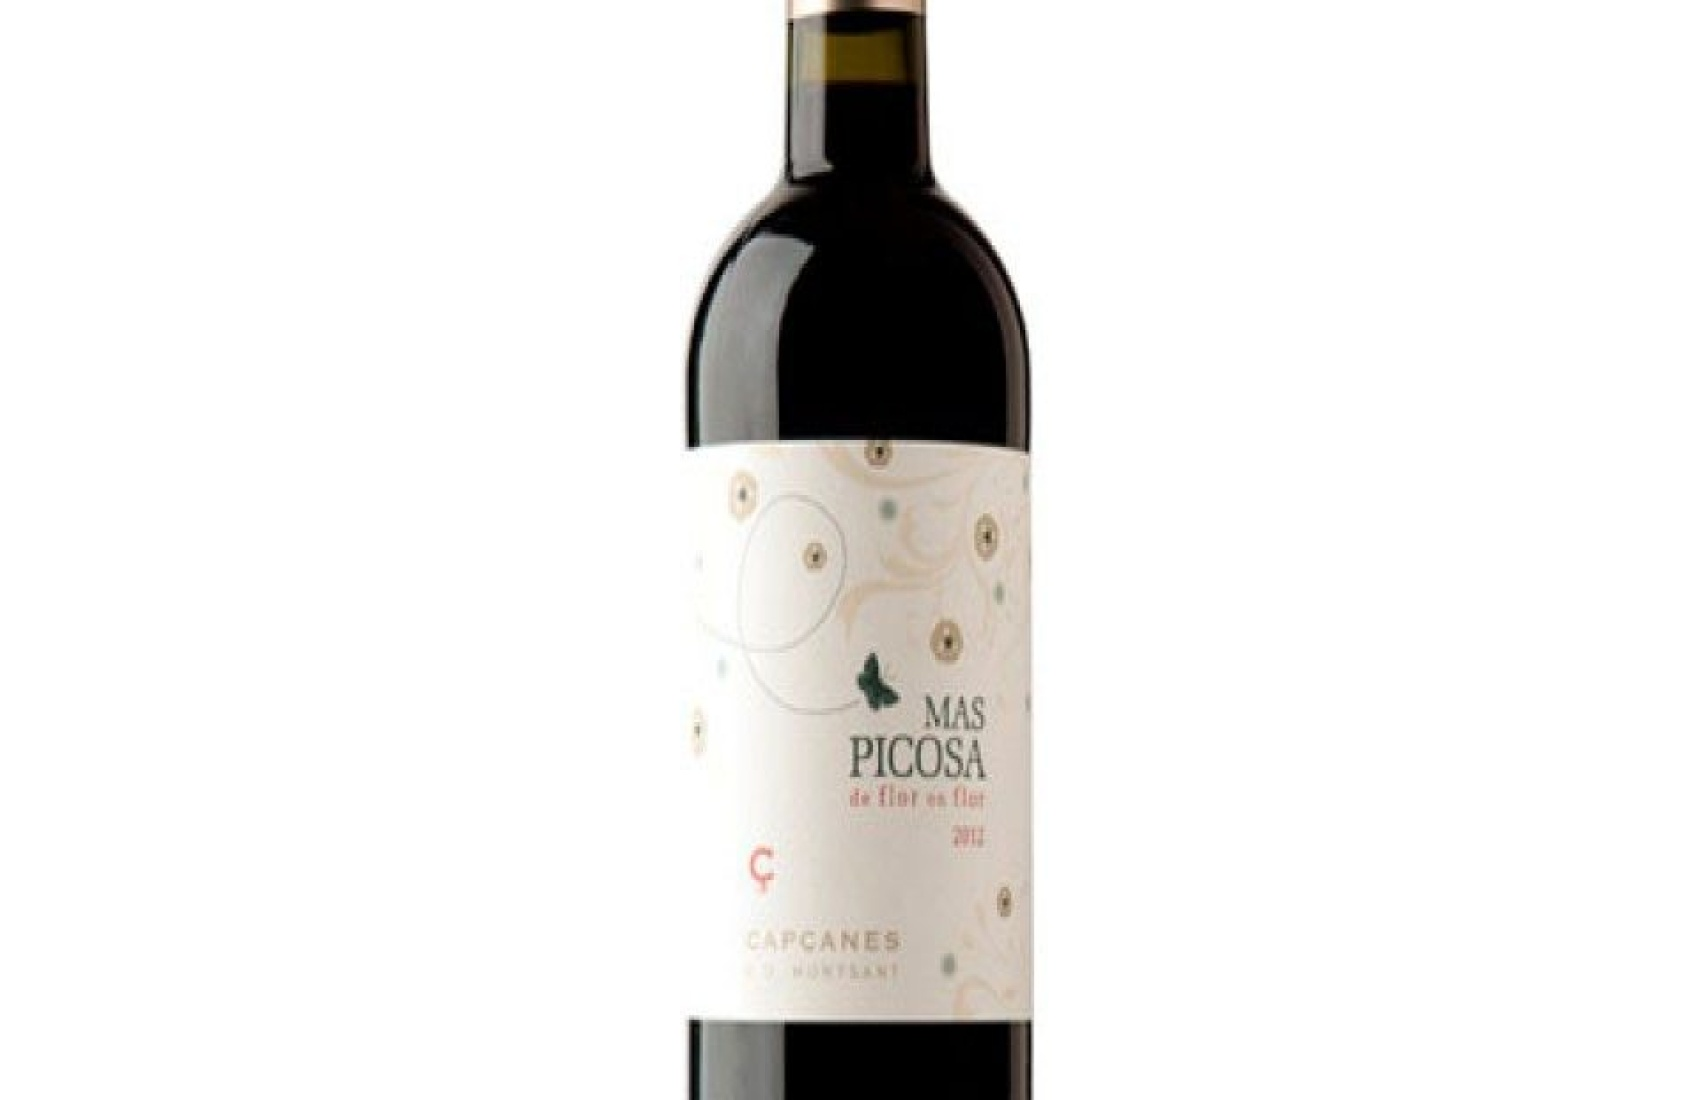wine: (683, 36, 1033, 1096)
